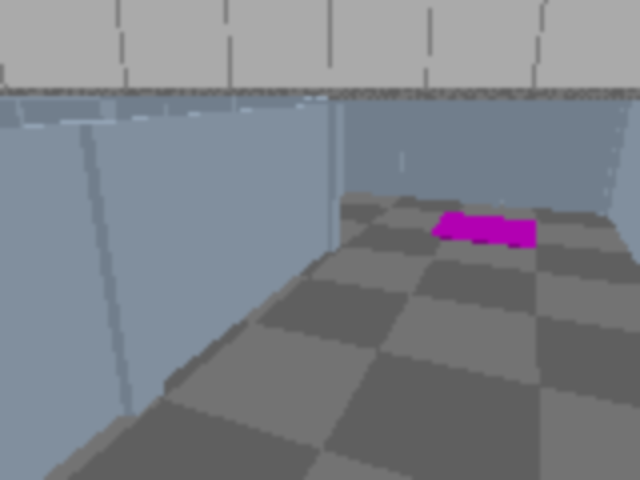goal_zone: (429, 212, 538, 250)
